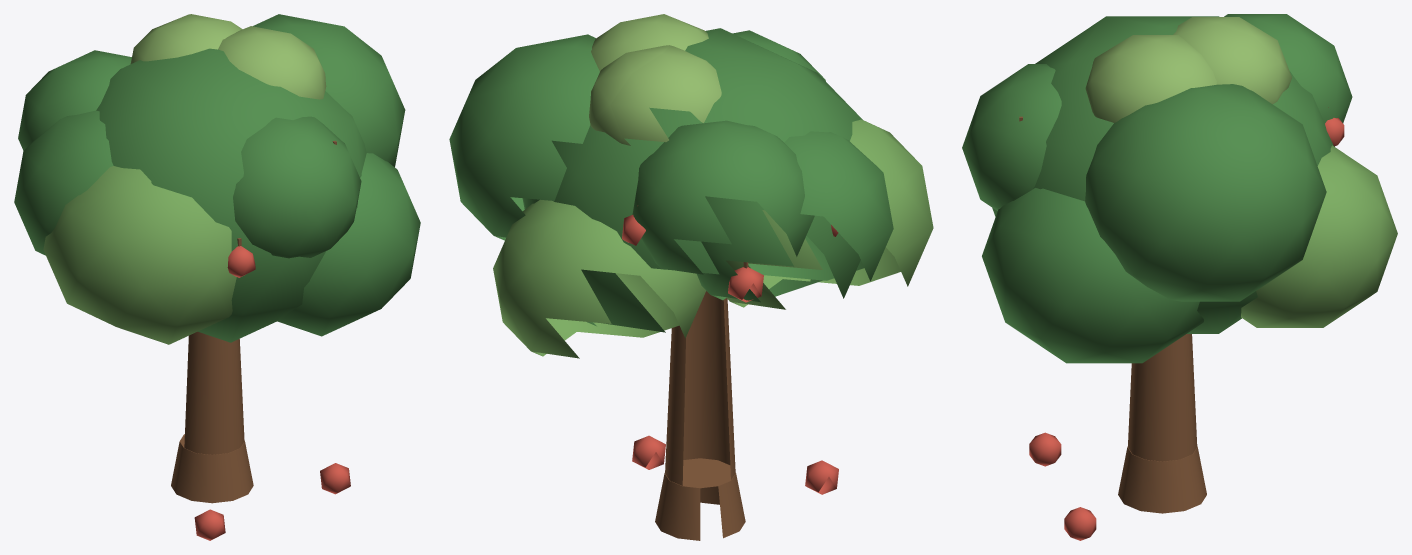
Rendered from ac_tree2.glb.
3 views of the same model, side by side, from view 1: azimuth 30°, elevation 25°; view 2: azimuth 150°, elevation 25°; view 3: azimuth 270°, elevation 25° (orthographic). The views are drawn at different scales.
Parts seen in each view (by area): view 1: cyl; view 2: cyl; view 3: cyl.
Part boxes in pixels (x1,y1,x2,y2): cyl: (14, 14, 420, 540); cyl: (449, 14, 933, 540); cyl: (962, 14, 1397, 540).
Size of the model in its own units: 3.88 by 4.5 by 3.71.
